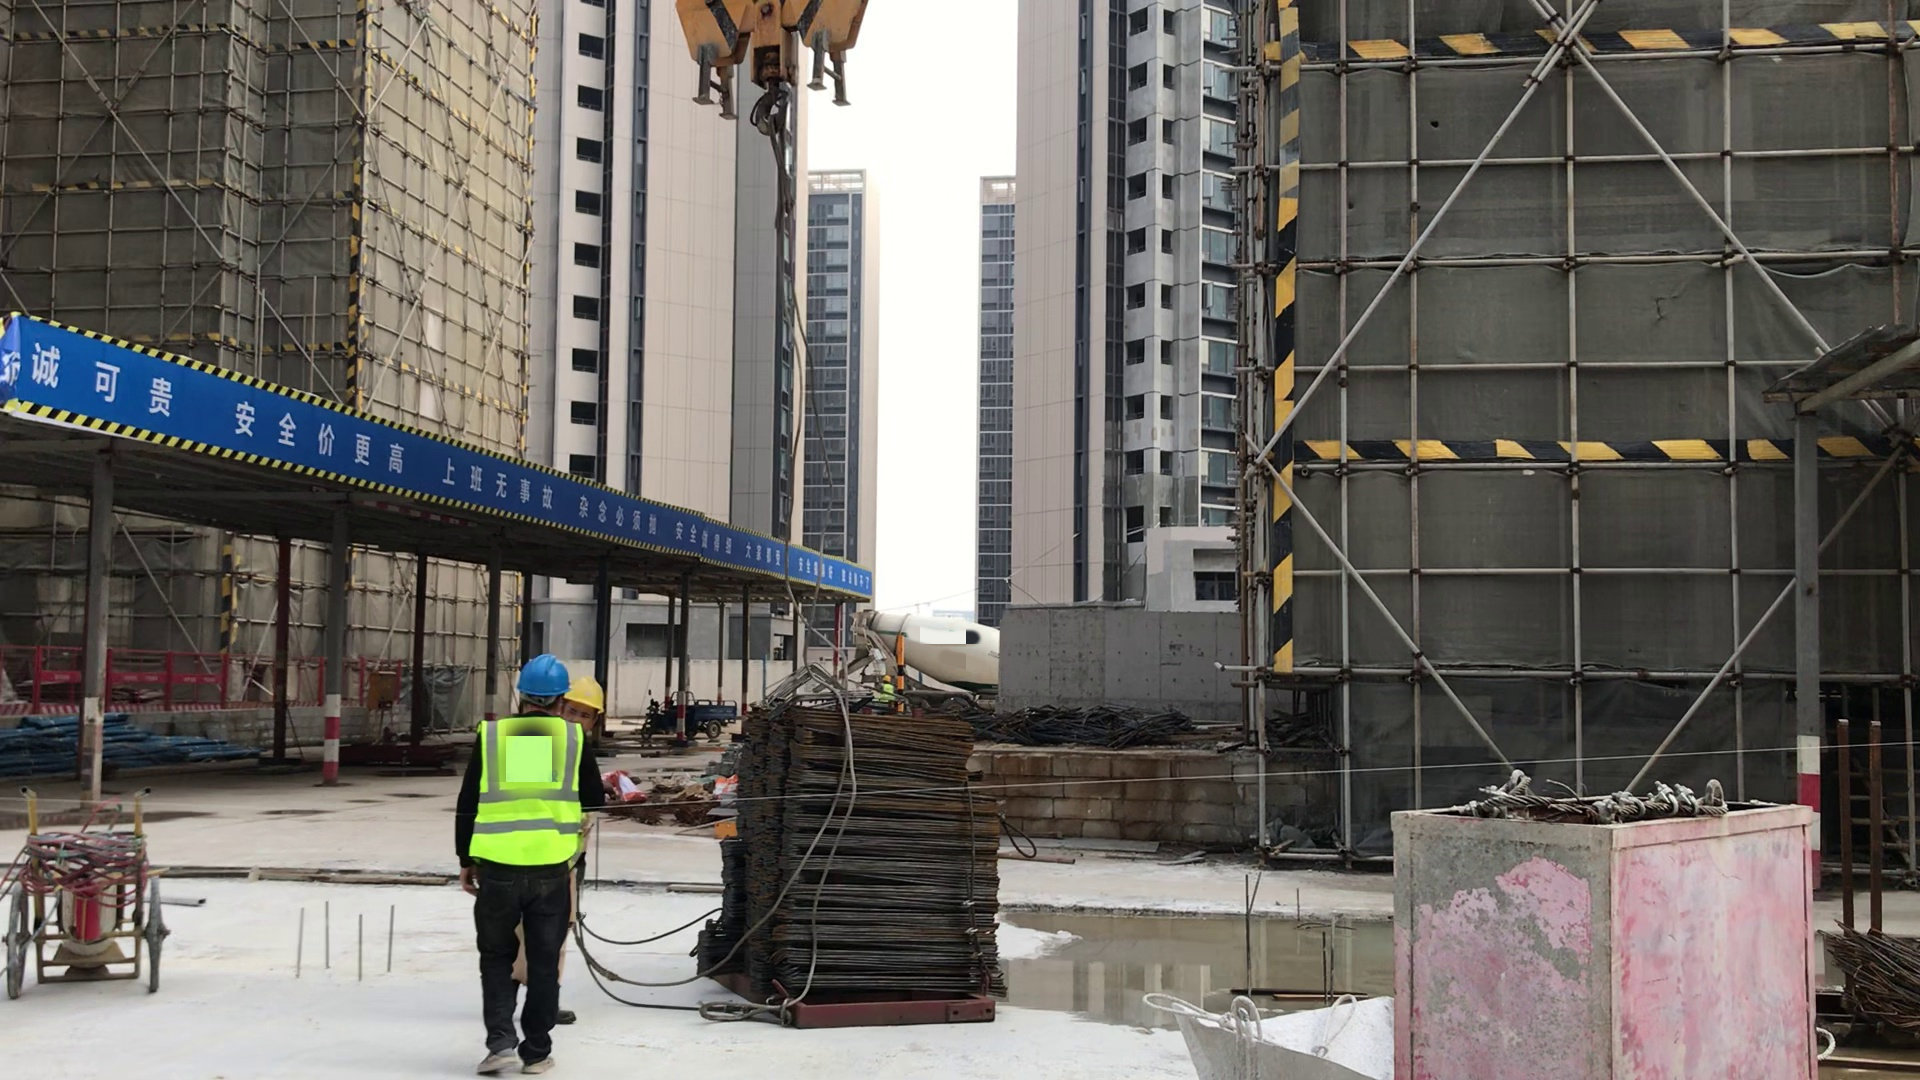ebox: (369, 666, 398, 711)
fence: (1, 654, 408, 715)
helmet: (520, 650, 573, 696), (567, 673, 608, 715), (880, 673, 893, 681)
hook: (659, 1, 877, 152)
hopper: (1148, 969, 1394, 1080)
person: (458, 649, 604, 1080), (871, 667, 899, 710)
slogan: (197, 366, 419, 480), (630, 491, 811, 590), (431, 448, 631, 533), (7, 330, 184, 415)
vest: (470, 716, 592, 871), (879, 683, 895, 699)
